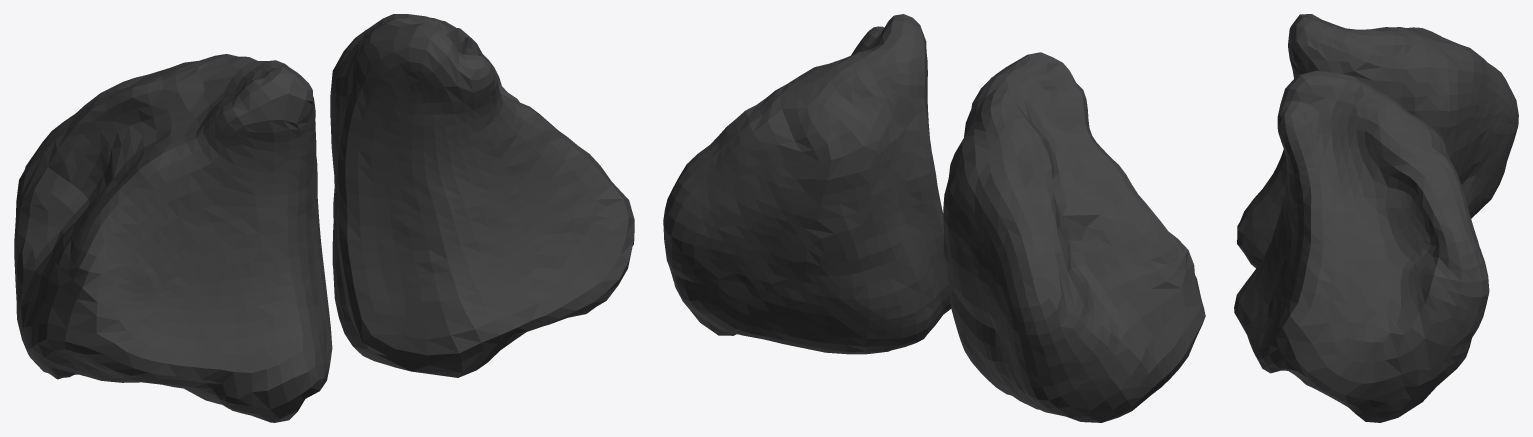
The model's file is sesamoids_prox.glb.
The picture shows the model from 3 angles, left to right: view 1: azimuth 30°, elevation 25°; view 2: azimuth 150°, elevation 25°; view 3: azimuth 270°, elevation 25°; orthographic projection. The views are drawn at different scales.
Parts seen in each view (by area): view 1: sesamoids_prox; view 2: sesamoids_prox; view 3: sesamoids_prox.
Part boxes in pixels (<box>): sesamoids_prox: <box>14,14,634,422</box>; sesamoids_prox: <box>663,14,1205,422</box>; sesamoids_prox: <box>1234,14,1518,422</box>.
Bounding box in the file's own units: 1.97 × 1.17 × 1.05.
1 material, 1 textured.
